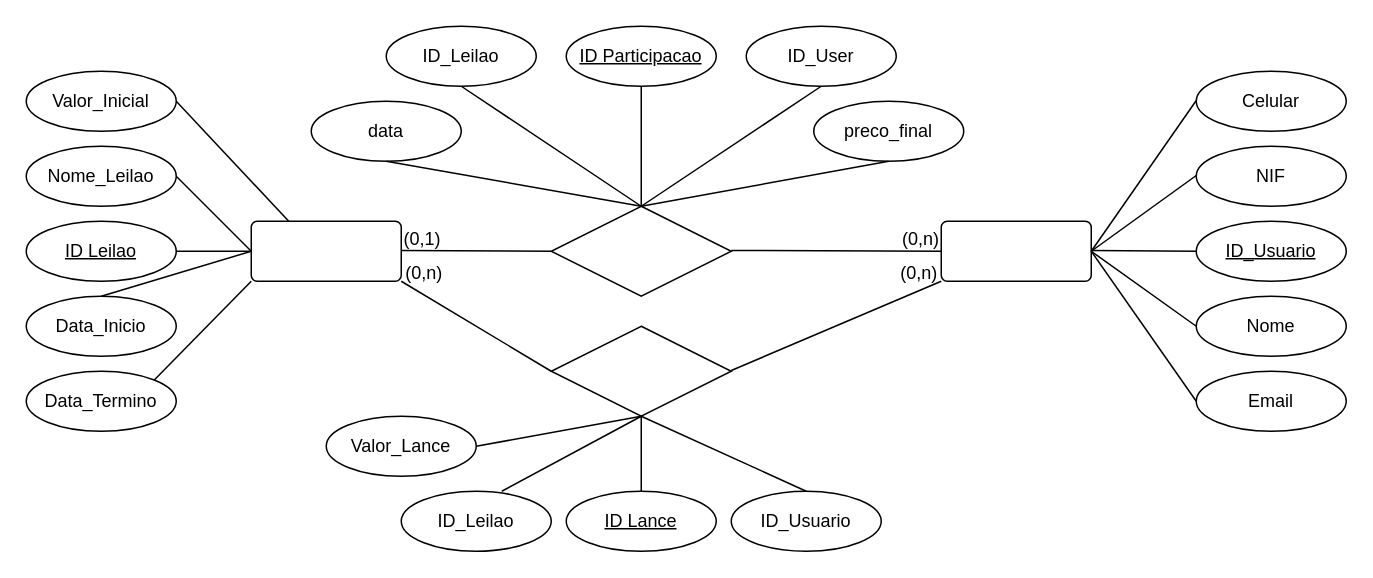
This 1373x578 diagram has some shape labels left out. Here are the shapes that lost their labels. From the top down, the centre of each, then its label:
the point at 325,250: Leilao
the point at 640,250: Participacao
the point at 1015,250: Usuário
the point at 640,370: Lance
